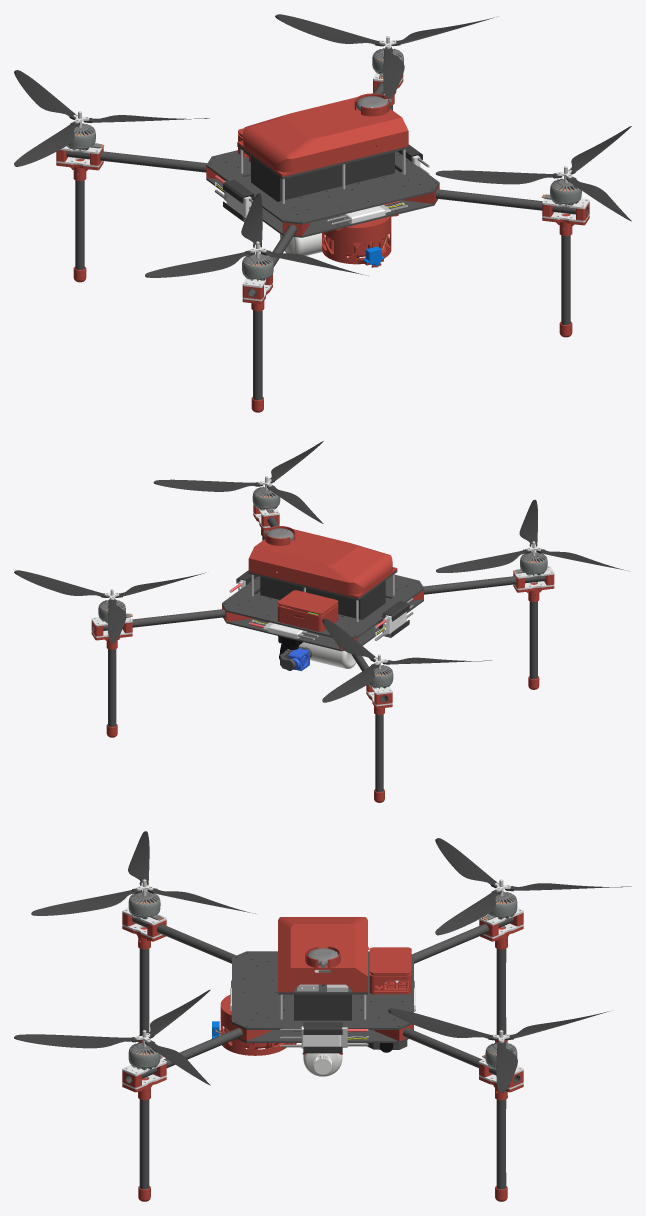
Rendered from skyxperts-strom-optimized.glb.
3 views of the same model, one above another, from view 1: azimuth 30°, elevation 25°; view 2: azimuth 150°, elevation 25°; view 3: azimuth 270°, elevation 25° (orthographic). The views are drawn at different scales.
Visible parts, largest first — view 1: Body2.002, Body1.010, Body1.011, Body1.089, Body1.019, Body1, Body1.047, Body1.049, Body1.127, Body1.138, Body1.131, Body1.135 (+14 smaller); view 2: Body2.002, Body1.010, Body1.011, Body1.019, Body1, Body2.014, Body1.002, Body1.128, Body1.048, Body1.130, Body1.140, Body1.125 (+11 smaller); view 3: Body1.010, Body2.002, Body1.019, Body1.011, Body1, Body2.014, Body1.126, Body1.132, Body1.139, Body1.089, Body1.136, Body1.023 (+20 smaller).
Boxes of the visible parts, x1,y1,x2,y2 form: Body2.002: (237, 100, 376, 176); Body1.010: (206, 150, 439, 224); Body1.011: (251, 152, 394, 201); Body1.089: (322, 214, 398, 265); Body1.019: (343, 93, 408, 157); Body1: (206, 168, 437, 237); Body1.047: (435, 189, 588, 215); Body1.049: (66, 150, 206, 172); Body1.127: (435, 170, 562, 184); Body1.138: (145, 250, 255, 277); Body1.131: (275, 14, 384, 46); Body1.135: (14, 122, 79, 166); Body2.002: (276, 532, 397, 598); Body1.010: (222, 574, 423, 638); Body1.011: (260, 576, 385, 619); Body1.019: (248, 526, 305, 581); Body1: (223, 591, 423, 651); Body2.014: (277, 590, 338, 618); Body1.002: (423, 575, 545, 594); Body1.128: (153, 479, 263, 491); Body1.048: (92, 609, 225, 631); Body1.130: (14, 570, 109, 597); Body1.140: (436, 549, 531, 572); Body1.125: (277, 606, 338, 631); Body1.010: (232, 951, 413, 1029); Body2.002: (278, 917, 367, 959); Body1.019: (278, 946, 367, 992); Body1.011: (294, 994, 351, 1031); Body1: (237, 994, 408, 1042); Body2.014: (369, 947, 411, 977); Body1.126: (14, 1034, 140, 1048); Body1.132: (388, 1008, 497, 1040); Body1.139: (31, 888, 141, 915); Body1.089: (219, 995, 296, 1055); Body1.136: (435, 890, 501, 935); Body1.023: (139, 1099, 149, 1189).
Bounding box in the file's own units: 0.9681 × 0.3394 × 0.9681.
1 material, 1 textured.
